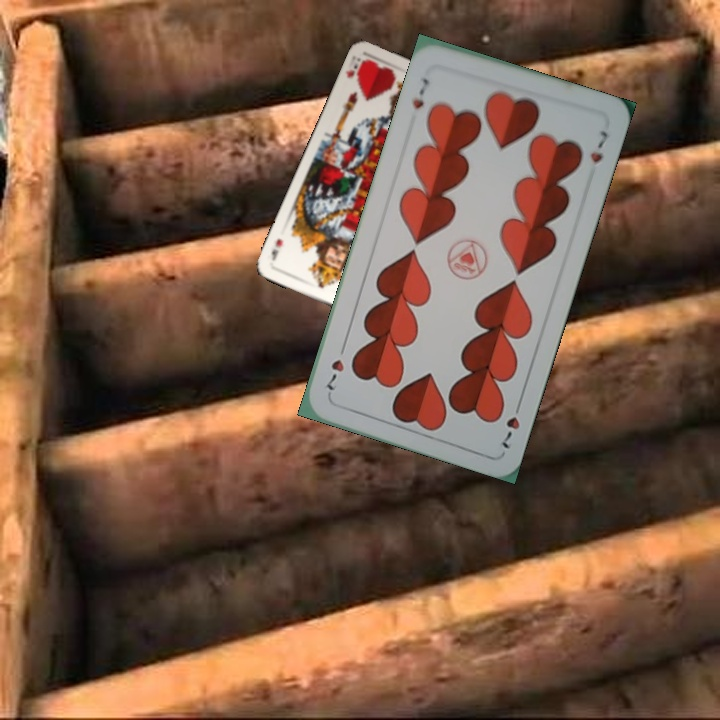H7: (498, 396, 525, 451), (408, 74, 433, 112)
HK: (342, 53, 363, 80)
